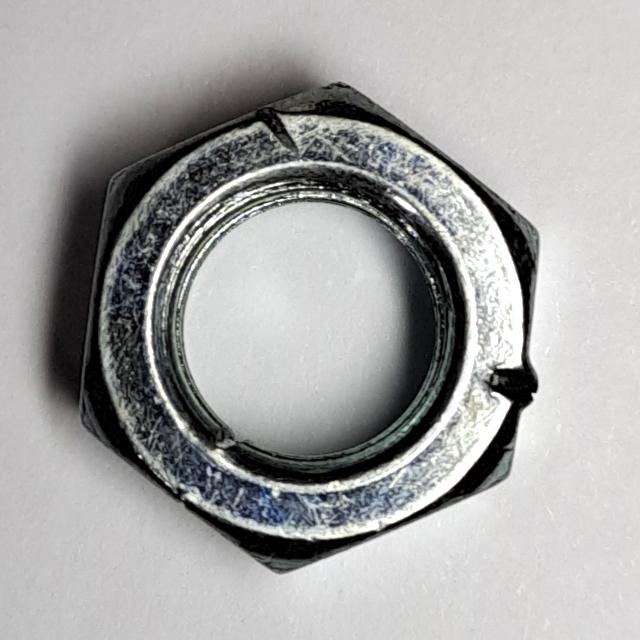Scratches: (72, 64, 561, 586)
